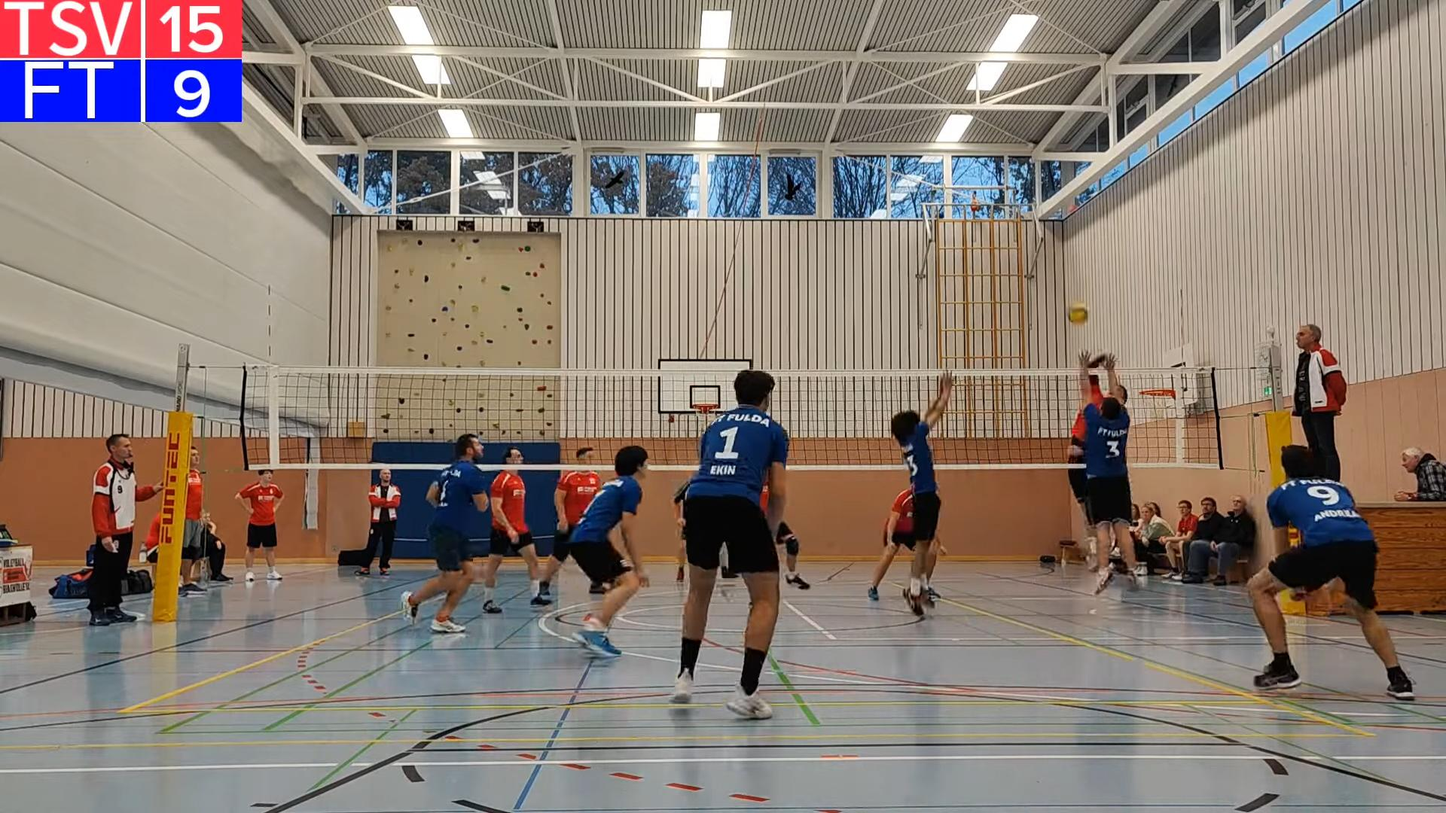attacco: (1064, 339, 1127, 527)
muro: (1076, 347, 1144, 600), (892, 368, 955, 619)
